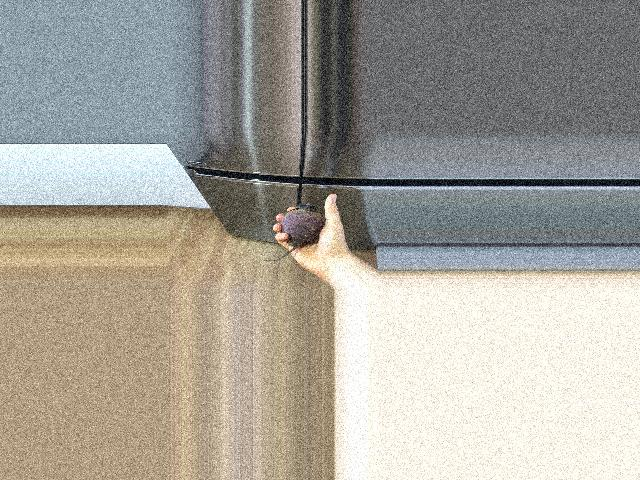beet: (261, 203, 324, 261)
